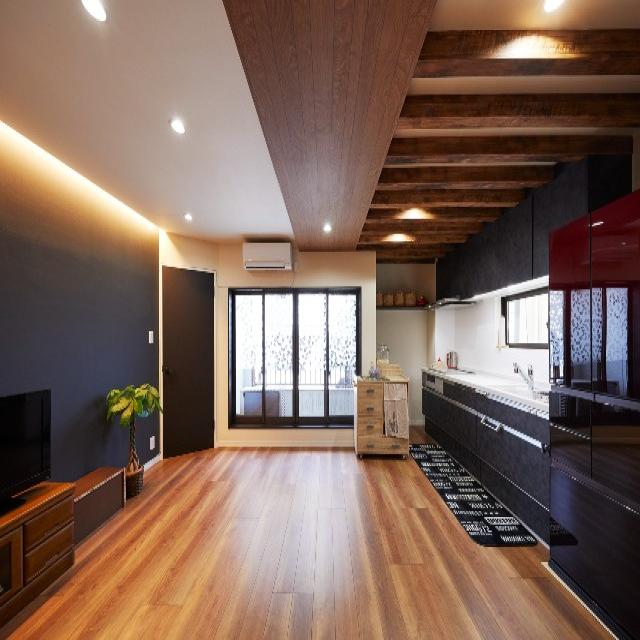vintage shelf: (356, 371, 408, 457)
